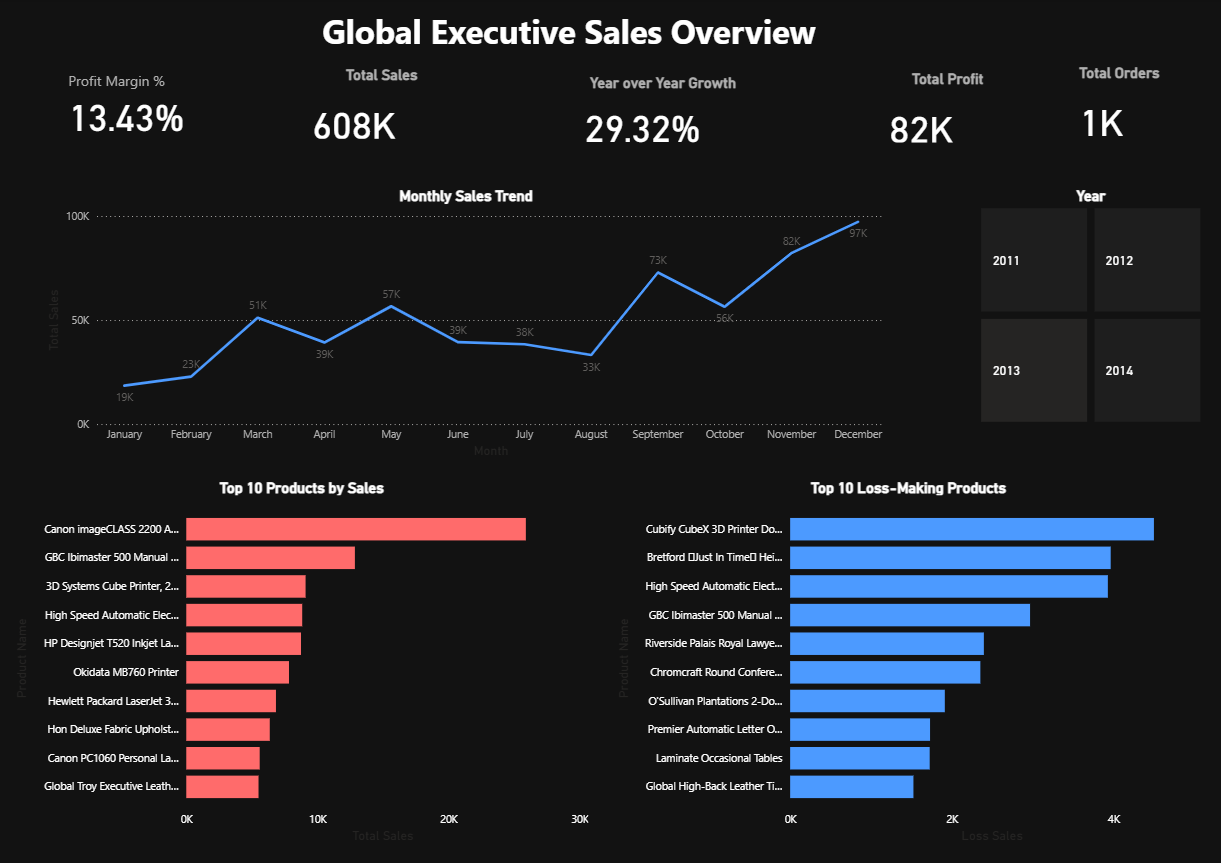

The dashboard page shown, as its layout file describes it:
{"tool":"powerbi","page":{"name":"Page 1","canvas":[1400,1000],"ordinal":0},"visuals":[{"type":"cardVisual","title":"Total Orders","fields":{"Data":["Global Supermarket cleaned.Total orders"]},"box":[1220.5,82.2,125.6,100.8],"z":0},{"type":"cardVisual","title":"Total Profit","fields":{"Data":["Global Supermarket cleaned.Total Profit"]},"box":[1003.4,90,167.5,88.4],"z":1000},{"type":"cardVisual","title":"Total Sales","fields":{"Data":["Global Supermarket cleaned.Total Sales"]},"box":[342.7,85.3,193.9,88.4],"z":2000},{"type":"lineChart","title":"Monthly Sales Trend","fields":{"Category":["Global Supermarket cleaned.Order Date.Variation.Date Hierarchy.Month"],"Y":["Global Supermarket cleaned.Total Sales"]},"box":[51.2,224.9,969.3,314.8],"z":4000},{"type":"advancedSlicerVisual","title":"Year","fields":{"Values":["Global Supermarket cleaned.Year"]},"box":[1119.7,224.9,260.5,274.5],"z":5000},{"type":"clusteredBarChart","title":"Top 10 Products by Sales","fields":{"Category":["Global Supermarket cleaned.Product Name"],"Y":["Global Supermarket cleaned.Total Sales"]},"box":[15.5,556.8,665.3,421.8],"z":6000},{"type":"clusteredBarChart","title":"Top 10 Loss-Making Products","fields":{"Category":["Global Supermarket cleaned.Product Name"],"Y":["Global Supermarket cleaned.Loss Sales"]},"box":[702.5,556.8,677.7,421.8],"z":7000},{"type":"textbox","box":[304.6,15.7,698.8,69.1],"z":7001},{"type":"cardVisual","title":"Year over Year Growth","fields":{"Data":["Global Supermarket cleaned.Sales YoY%"]},"box":[654.5,94.6,214,103.9],"z":7002},{"type":"cardVisual","fields":{"Data":["Global Supermarket cleaned.Profit Margin %"]},"box":[63.6,74.4,187.7,108.6],"z":7003}]}

Visuals, with their boxes in screenshot pixels (x1, y1, x2, y2), scaled from the page's 1400x1000 canvas onto the 1221x863 screenshot:
"Total Orders" cardVisual: 1064:71:1174:158
"Total Profit" cardVisual: 875:78:1021:154
"Total Sales" cardVisual: 299:74:468:150
"Monthly Sales Trend" lineChart: 45:194:890:466
"Year" advancedSlicerVisual: 977:194:1204:431
"Top 10 Products by Sales" clusteredBarChart: 14:481:594:845
"Top 10 Loss-Making Products" clusteredBarChart: 613:481:1204:845
textbox: 266:14:875:73
"Year over Year Growth" cardVisual: 571:82:757:171
cardVisual - Global Supermarket cleaned.Profit Margin %: 55:64:219:158
